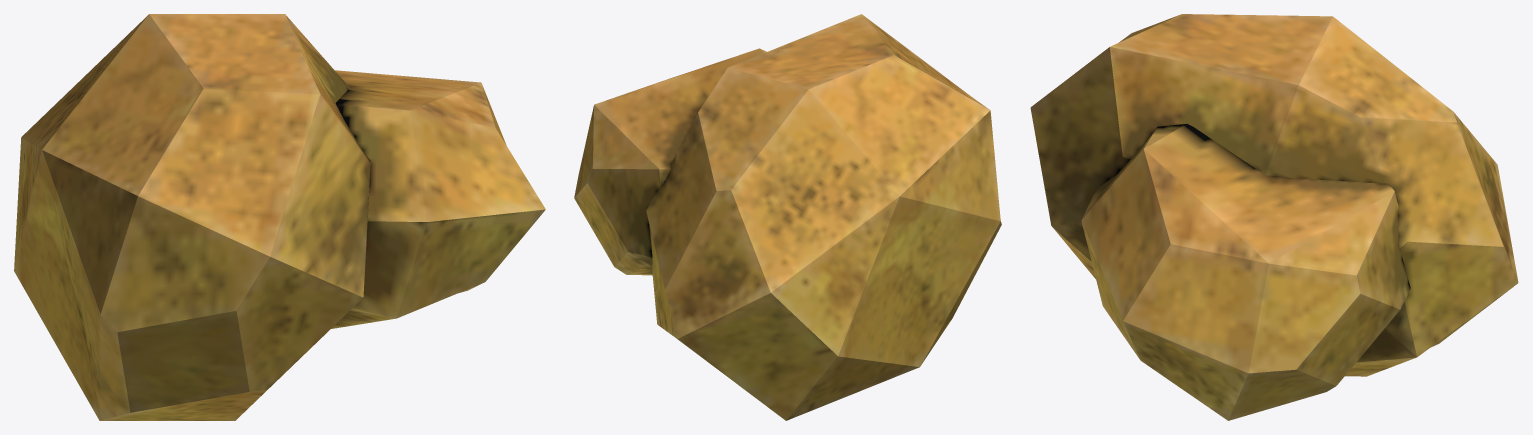
Rendered from GoldCrushed.glb.
3 renders of one model, left to right at view 1: azimuth 30°, elevation 25°; view 2: azimuth 150°, elevation 25°; view 3: azimuth 270°, elevation 25°, orthographic. The views are drawn at different scales.
Visible parts, largest first — view 1: GoldCrushed; view 2: GoldCrushed; view 3: GoldCrushed.
Boxes of the visible parts, x1,y1,x2,y2 form: GoldCrushed: (14,14,545,420); GoldCrushed: (574,14,1001,420); GoldCrushed: (1030,14,1518,420).
Size of the model in its own units: 0.1287 by 0.0959 by 0.1223.
1 material, 1 textured.
